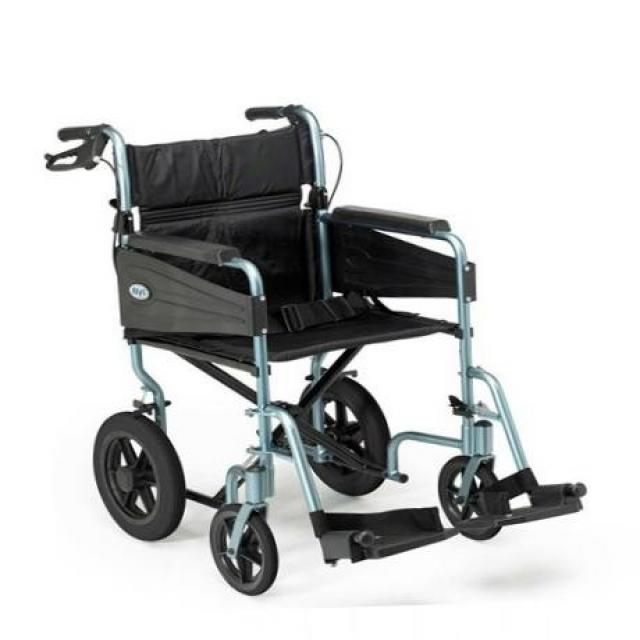wheelchair: (42, 99, 592, 611)
